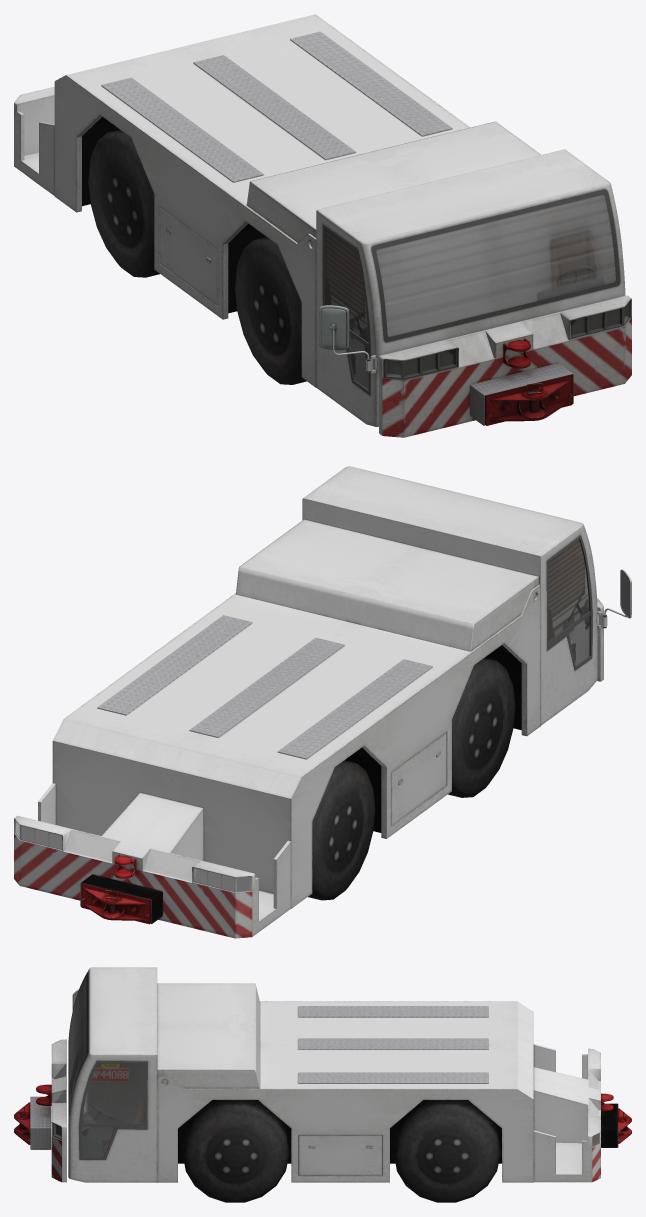
File: Hangar_AircraftPull_Vehicle.FBX
3 renders of one model, top to bottom at view 1: azimuth 30°, elevation 25°; view 2: azimuth 150°, elevation 25°; view 3: azimuth 270°, elevation 25°, orthographic. The views are drawn at different scales.
Visible parts, largest first — view 1: Hangar_AircraftPull_Vehicle; view 2: Hangar_AircraftPull_Vehicle; view 3: Hangar_AircraftPull_Vehicle.
Part boxes in pixels (x1,y1,x2,y2): Hangar_AircraftPull_Vehicle: [14, 14, 631, 437]; Hangar_AircraftPull_Vehicle: [14, 466, 631, 938]; Hangar_AircraftPull_Vehicle: [14, 967, 631, 1202].
Bounding box in the file's own units: 254 × 173 × 638.
